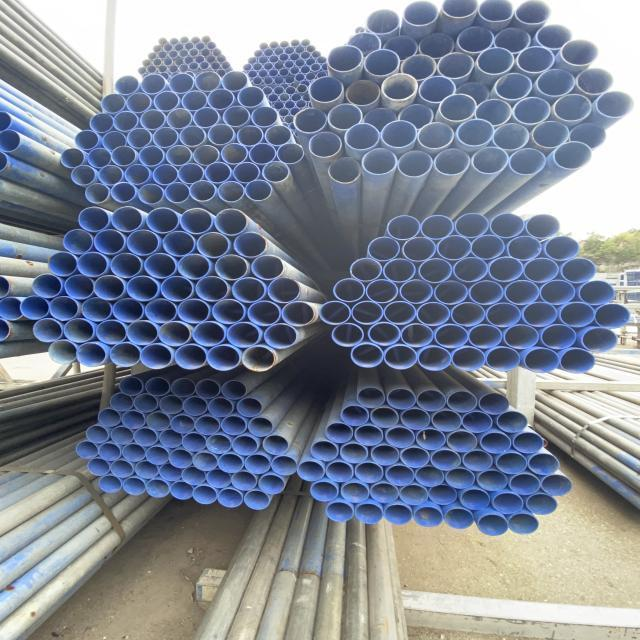pipe: (551, 91, 594, 128), (594, 88, 637, 125), (344, 74, 386, 110), (558, 35, 602, 69), (552, 142, 596, 176), (324, 154, 364, 190), (471, 144, 511, 180), (473, 46, 518, 78), (513, 94, 555, 128), (530, 118, 572, 152), (304, 75, 347, 108), (436, 91, 479, 124), (472, 98, 515, 131), (381, 116, 420, 152), (364, 3, 404, 38), (433, 146, 473, 181), (578, 64, 618, 99), (510, 145, 550, 180), (325, 42, 365, 77), (418, 28, 457, 63), (416, 120, 456, 154), (382, 72, 422, 106), (569, 120, 609, 154), (362, 45, 402, 79), (516, 44, 558, 76), (398, 147, 437, 181), (490, 121, 530, 154), (262, 321, 302, 354), (560, 253, 600, 286), (486, 253, 526, 286), (593, 301, 634, 333), (292, 106, 330, 140), (494, 70, 534, 102), (456, 24, 496, 56), (436, 52, 476, 84), (536, 68, 576, 100), (418, 72, 458, 104), (557, 347, 599, 377), (524, 212, 566, 242), (403, 1, 441, 34), (537, 20, 576, 52), (213, 207, 252, 239), (240, 344, 279, 376), (503, 321, 542, 353), (306, 131, 345, 163), (456, 119, 496, 150), (522, 346, 563, 376), (539, 322, 580, 352), (176, 250, 214, 282), (280, 298, 318, 330), (249, 251, 287, 283), (362, 148, 400, 180), (192, 318, 230, 350), (487, 211, 526, 242), (125, 227, 164, 258), (544, 234, 584, 264), (580, 324, 620, 354), (482, 346, 522, 376), (540, 276, 580, 306), (470, 232, 510, 262), (416, 254, 454, 285), (434, 321, 472, 352), (558, 300, 597, 330), (245, 298, 284, 328), (361, 106, 400, 136), (484, 300, 523, 330), (195, 274, 234, 304), (436, 234, 475, 264), (162, 229, 201, 259), (523, 254, 562, 284), (516, 1, 556, 30), (492, 27, 532, 56), (110, 204, 146, 236), (346, 122, 382, 154), (452, 253, 489, 284), (225, 318, 262, 349), (416, 344, 454, 374), (450, 299, 488, 329), (506, 234, 544, 264), (450, 345, 488, 375), (580, 280, 618, 310), (210, 297, 248, 327), (234, 230, 272, 260), (327, 104, 365, 134), (212, 252, 250, 282), (453, 210, 491, 240), (266, 276, 304, 306), (402, 53, 440, 83), (467, 322, 505, 352), (349, 342, 387, 372), (476, 0, 514, 30), (156, 320, 194, 350), (398, 102, 436, 132), (124, 276, 162, 306), (382, 34, 420, 64), (61, 226, 96, 258), (146, 206, 182, 237), (505, 510, 541, 541), (416, 298, 453, 328), (143, 250, 180, 280), (206, 344, 243, 374), (403, 234, 440, 264), (178, 207, 215, 237), (173, 342, 210, 372), (196, 230, 233, 260), (31, 270, 68, 300), (329, 320, 366, 350), (366, 235, 404, 264), (232, 277, 270, 306), (384, 214, 422, 243), (178, 296, 214, 326), (74, 204, 110, 234), (474, 509, 510, 539), (108, 342, 144, 372), (92, 227, 128, 257), (162, 273, 198, 303), (64, 272, 100, 302), (383, 343, 420, 372), (440, 0, 481, 26), (493, 408, 531, 436), (418, 215, 456, 243), (348, 254, 386, 282), (330, 278, 368, 306), (398, 278, 436, 306), (364, 278, 402, 306), (382, 256, 420, 284), (74, 342, 108, 373), (111, 250, 146, 280), (140, 342, 175, 372), (524, 300, 560, 329), (469, 280, 506, 308), (351, 299, 388, 327), (384, 299, 421, 327), (432, 280, 469, 308), (366, 320, 403, 348), (339, 478, 376, 506), (91, 276, 128, 304), (494, 448, 531, 476), (348, 30, 386, 57), (506, 280, 542, 308), (146, 297, 182, 325), (113, 296, 149, 324), (512, 428, 548, 456), (49, 295, 85, 323), (478, 428, 515, 455), (75, 250, 109, 279), (30, 316, 64, 345), (96, 318, 130, 347), (128, 318, 162, 347), (316, 300, 351, 328), (307, 478, 342, 506), (79, 296, 114, 324), (507, 470, 542, 498), (526, 489, 562, 516), (240, 176, 276, 203), (541, 472, 577, 499), (440, 506, 476, 533), (400, 322, 436, 349), (489, 488, 526, 514), (458, 410, 495, 436), (478, 390, 510, 420), (18, 294, 51, 323), (61, 316, 95, 344), (46, 250, 80, 278), (456, 78, 490, 106), (353, 500, 387, 528), (444, 389, 479, 416), (354, 384, 388, 411), (410, 503, 444, 530), (528, 452, 562, 479), (273, 142, 308, 168), (446, 428, 482, 453), (474, 468, 510, 493), (308, 438, 340, 466), (458, 486, 491, 513), (295, 456, 329, 482), (261, 431, 295, 457), (368, 406, 402, 432), (430, 407, 464, 433), (323, 458, 358, 483), (234, 85, 266, 112), (46, 342, 78, 369), (430, 446, 463, 472), (234, 394, 268, 419), (384, 388, 418, 413), (384, 424, 418, 449), (262, 160, 294, 186), (220, 68, 252, 94), (134, 182, 166, 208), (248, 106, 280, 132), (207, 87, 239, 113), (386, 463, 418, 489), (400, 406, 432, 432), (427, 483, 459, 509), (190, 144, 222, 170), (384, 502, 416, 528), (338, 402, 370, 428), (412, 464, 444, 490), (460, 448, 492, 474), (354, 424, 387, 449), (214, 181, 247, 206), (369, 442, 402, 467), (416, 426, 450, 450), (368, 480, 402, 504), (268, 455, 300, 480), (257, 471, 289, 496), (400, 445, 432, 470), (324, 422, 356, 447), (220, 106, 252, 131), (177, 125, 209, 150), (340, 442, 373, 466), (397, 484, 430, 508), (414, 390, 447, 414), (219, 142, 249, 168), (170, 376, 200, 402), (220, 412, 250, 438), (208, 122, 238, 148), (163, 144, 193, 170), (241, 489, 272, 514), (124, 126, 155, 151), (167, 74, 199, 98), (354, 460, 386, 484), (187, 180, 219, 204), (444, 466, 476, 490), (112, 74, 144, 98), (232, 432, 261, 458), (151, 162, 180, 188), (205, 160, 234, 186), (248, 143, 278, 168), (236, 123, 266, 148), (232, 161, 262, 186), (58, 147, 88, 172), (138, 110, 172, 132), (324, 500, 358, 522), (247, 414, 278, 438), (166, 108, 197, 132), (193, 72, 224, 96), (124, 91, 155, 115), (220, 378, 251, 402), (110, 146, 141, 170), (162, 182, 193, 206), (192, 107, 223, 131), (84, 148, 116, 171), (151, 126, 181, 150), (142, 74, 172, 98), (182, 395, 212, 419), (123, 162, 153, 186), (70, 164, 100, 188), (190, 482, 220, 506), (157, 394, 187, 418), (131, 392, 161, 416), (180, 89, 210, 113), (95, 163, 125, 187), (244, 454, 275, 477), (168, 414, 200, 436), (71, 128, 99, 153), (138, 146, 167, 170), (191, 448, 220, 472), (216, 488, 246, 511), (144, 375, 174, 398), (194, 376, 224, 399), (208, 397, 238, 420), (144, 409, 174, 432), (206, 468, 236, 491), (100, 92, 130, 115), (178, 162, 208, 185), (151, 90, 182, 112), (119, 474, 150, 496), (100, 130, 131, 152), (88, 112, 116, 136), (157, 428, 185, 452), (262, 125, 294, 146), (217, 452, 245, 476), (166, 446, 195, 469), (110, 182, 140, 204), (194, 414, 224, 436), (112, 112, 142, 134), (83, 184, 113, 206), (131, 428, 161, 450), (206, 434, 236, 456), (182, 431, 210, 454), (230, 470, 259, 492), (120, 442, 149, 464), (118, 375, 147, 397), (180, 467, 210, 488), (120, 410, 148, 432), (96, 407, 124, 429), (108, 392, 136, 414), (96, 440, 123, 462), (168, 479, 195, 501), (145, 477, 173, 498), (132, 461, 160, 482), (109, 460, 138, 480), (84, 426, 113, 446), (110, 424, 136, 446), (96, 473, 122, 495), (146, 444, 172, 466), (158, 464, 185, 484), (76, 440, 102, 460), (86, 458, 112, 478)
